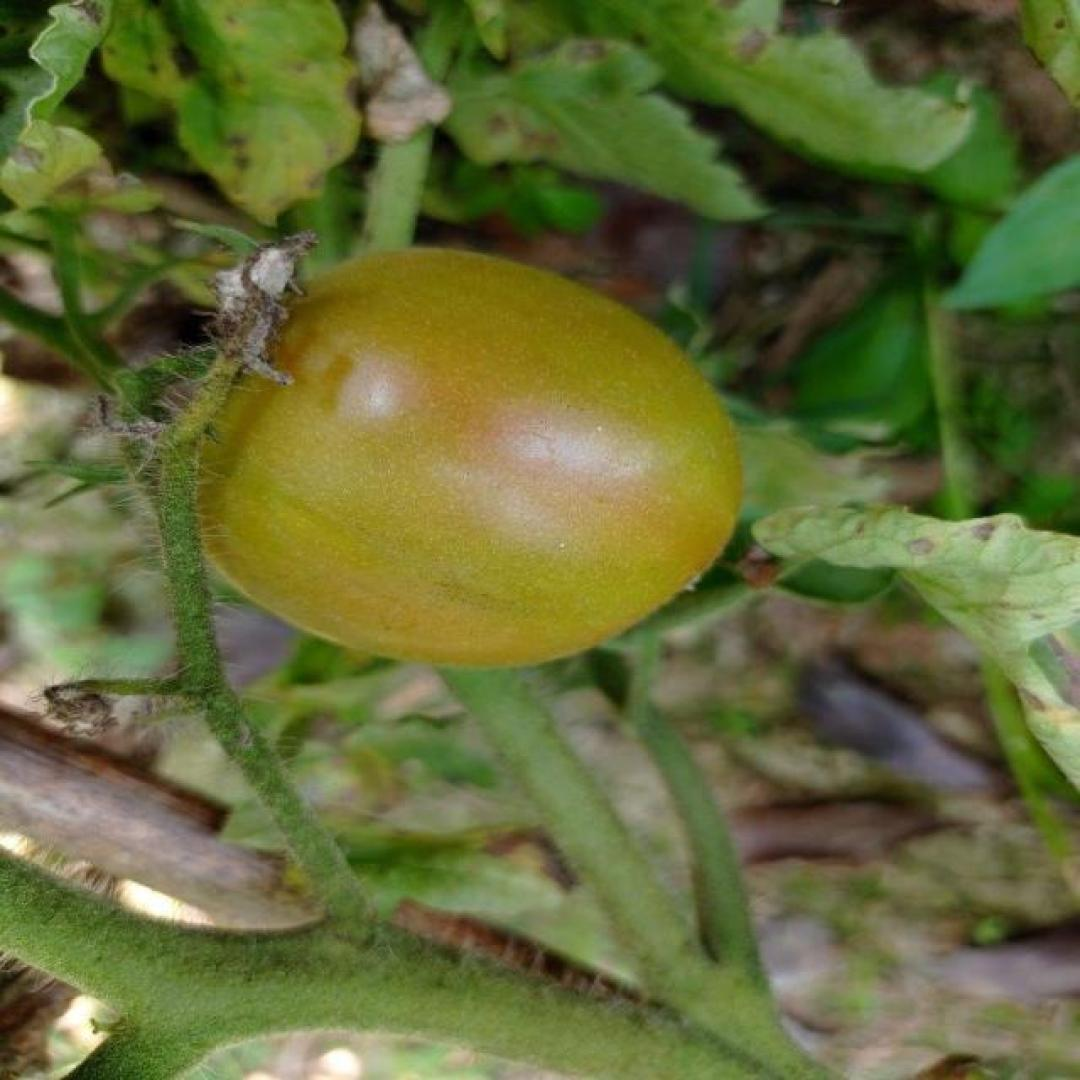setengah_matang: (176, 246, 744, 675)
